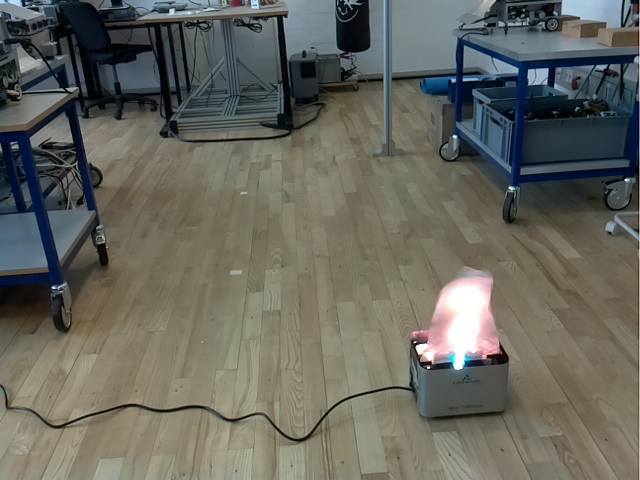fire: (420, 265, 502, 364)
